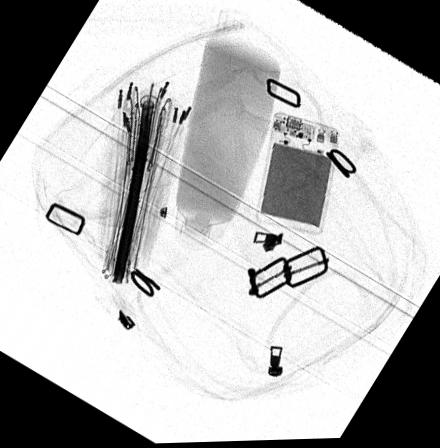Powerbank: (255, 112, 344, 238)
